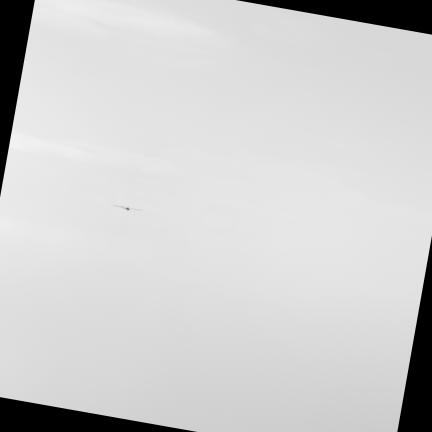Shahed: (112, 204, 144, 212)
